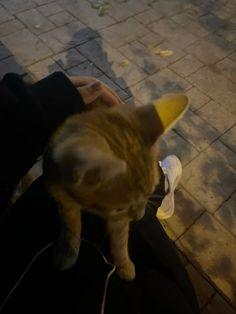kedo: (45, 94, 195, 279)
